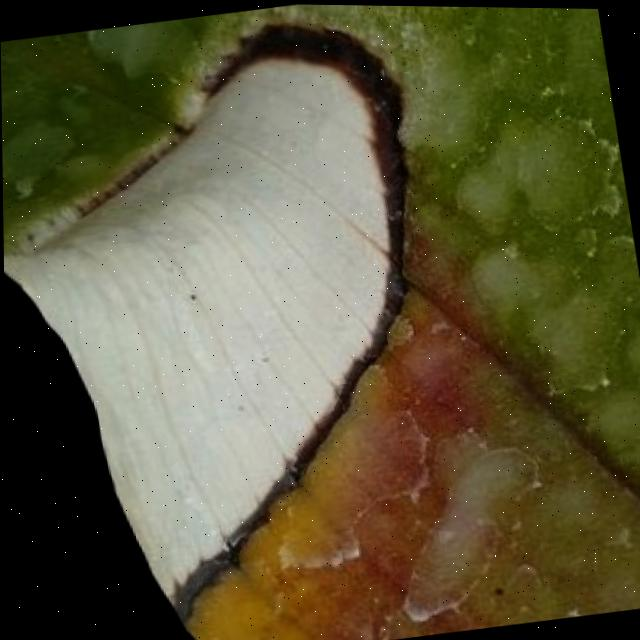mite: (3, 208, 230, 640), (183, 286, 204, 310), (185, 291, 200, 305), (491, 586, 507, 598)
spots: (0, 3, 640, 640)
sunburn: (84, 4, 483, 618)
